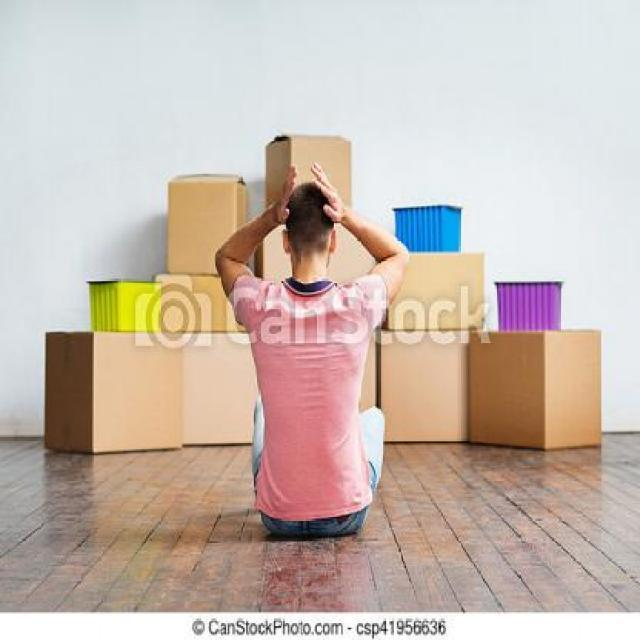box: (41, 328, 187, 454), (472, 329, 608, 453), (382, 328, 492, 448), (180, 327, 269, 449), (168, 169, 246, 281), (386, 251, 486, 326), (262, 131, 349, 216), (154, 267, 252, 335)
